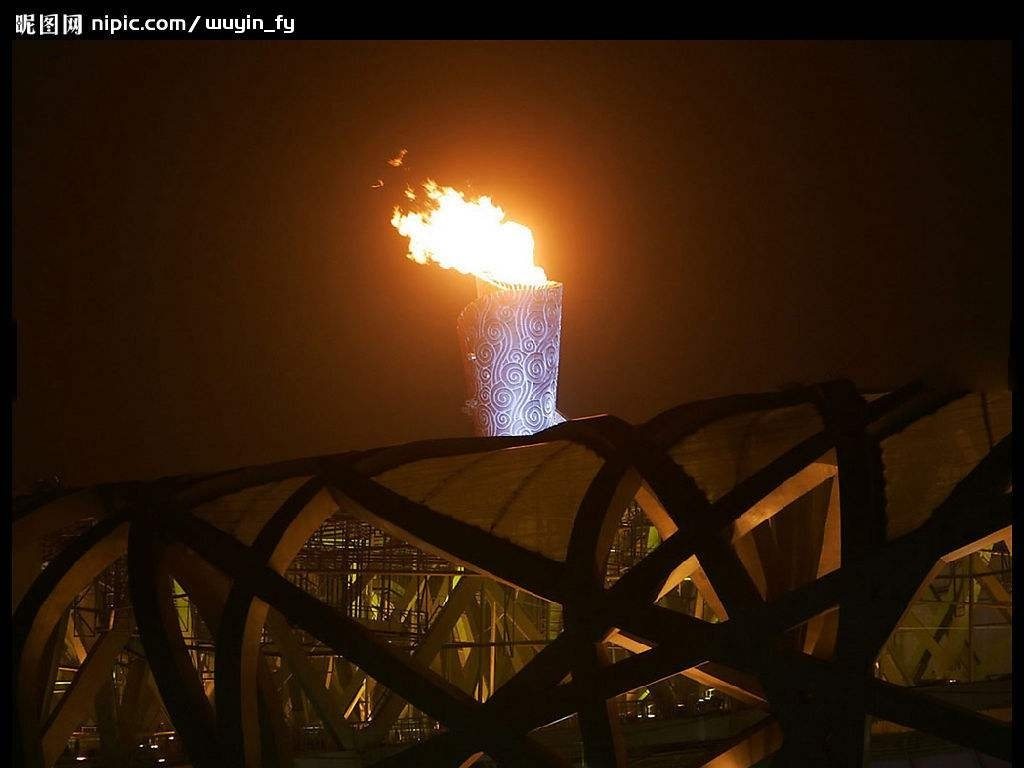fire: (384, 159, 554, 293)
